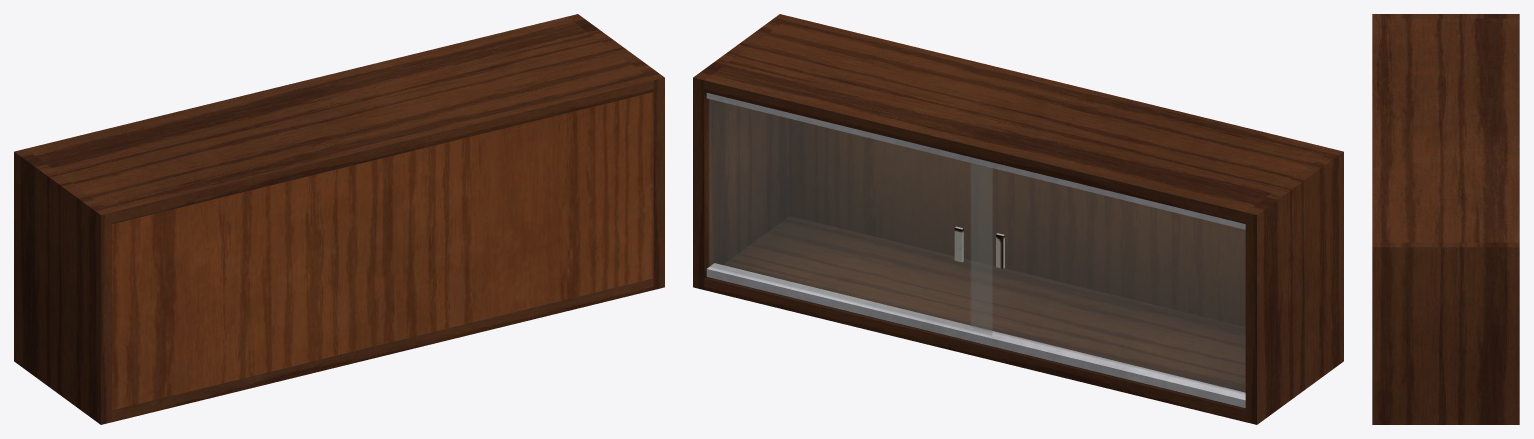
File: shelf_glass_dark_web.glb
3 renders of one model, left to right at view 1: azimuth 30°, elevation 25°; view 2: azimuth 150°, elevation 25°; view 3: azimuth 270°, elevation 25°, orthographic. The views are drawn at different scales.
Visible parts, largest first — view 1: ShelfGlassDark_Body; view 2: ShelfGlassDark_Body, Glass_Slide_1_L, Glass_Slide_1_R, Chrome_ShelfGlassDark; view 3: ShelfGlassDark_Body.
Boxes of the visible parts, bbox=[...] form: ShelfGlassDark_Body: bbox=[14, 14, 664, 424]; ShelfGlassDark_Body: bbox=[693, 14, 1343, 424]; Glass_Slide_1_L: bbox=[709, 99, 992, 335]; Glass_Slide_1_R: bbox=[971, 163, 1245, 393]; Chrome_ShelfGlassDark: bbox=[706, 93, 1245, 408]; ShelfGlassDark_Body: bbox=[1372, 14, 1519, 424].
Bounding box in the file's own units: 0.9 × 0.32 × 0.24.
3 materials, 2 textured.
